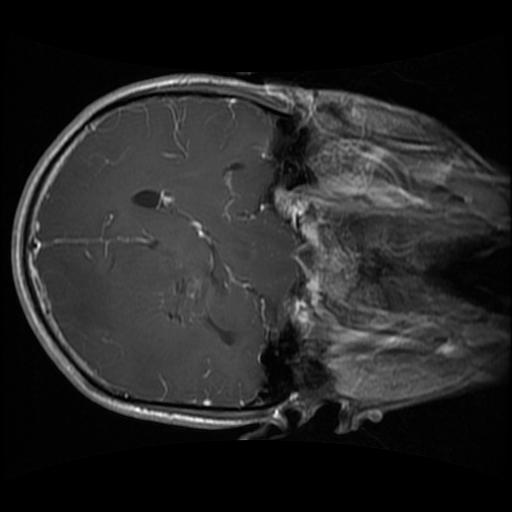glioma: (147, 263, 213, 327)
